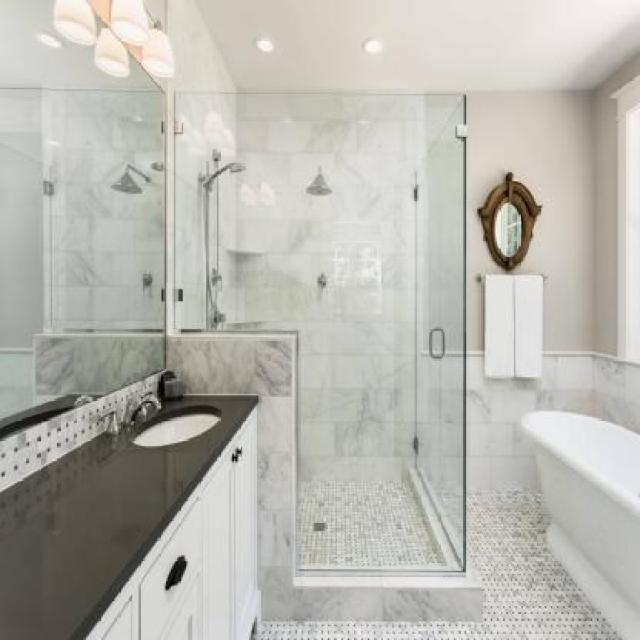floor: (258, 466, 620, 640)
